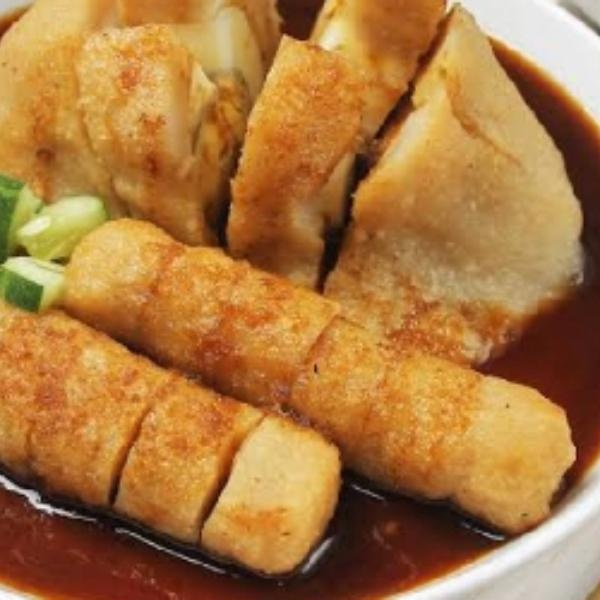pempek: (1, 1, 578, 574)
